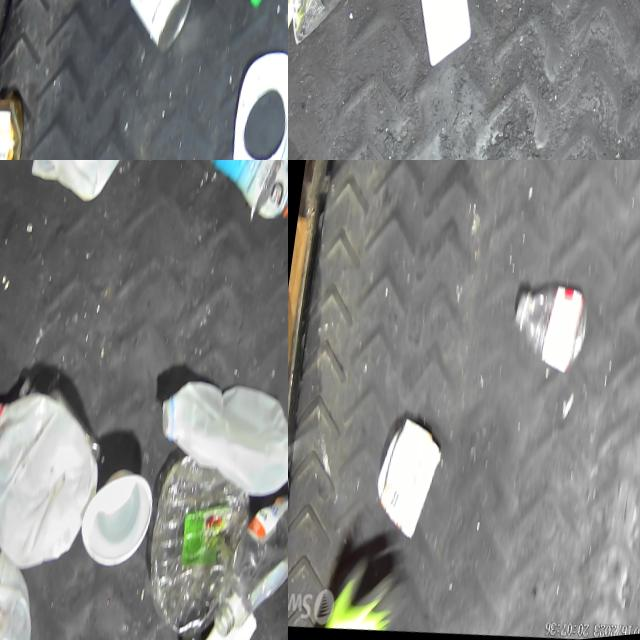can: (120, 0, 199, 61), (288, 0, 354, 56)
milk_jug: (0, 385, 104, 594), (147, 373, 288, 524), (394, 0, 488, 81), (32, 160, 149, 221), (0, 558, 45, 640)
plastic_bottle: (130, 459, 253, 640), (507, 279, 592, 386)
